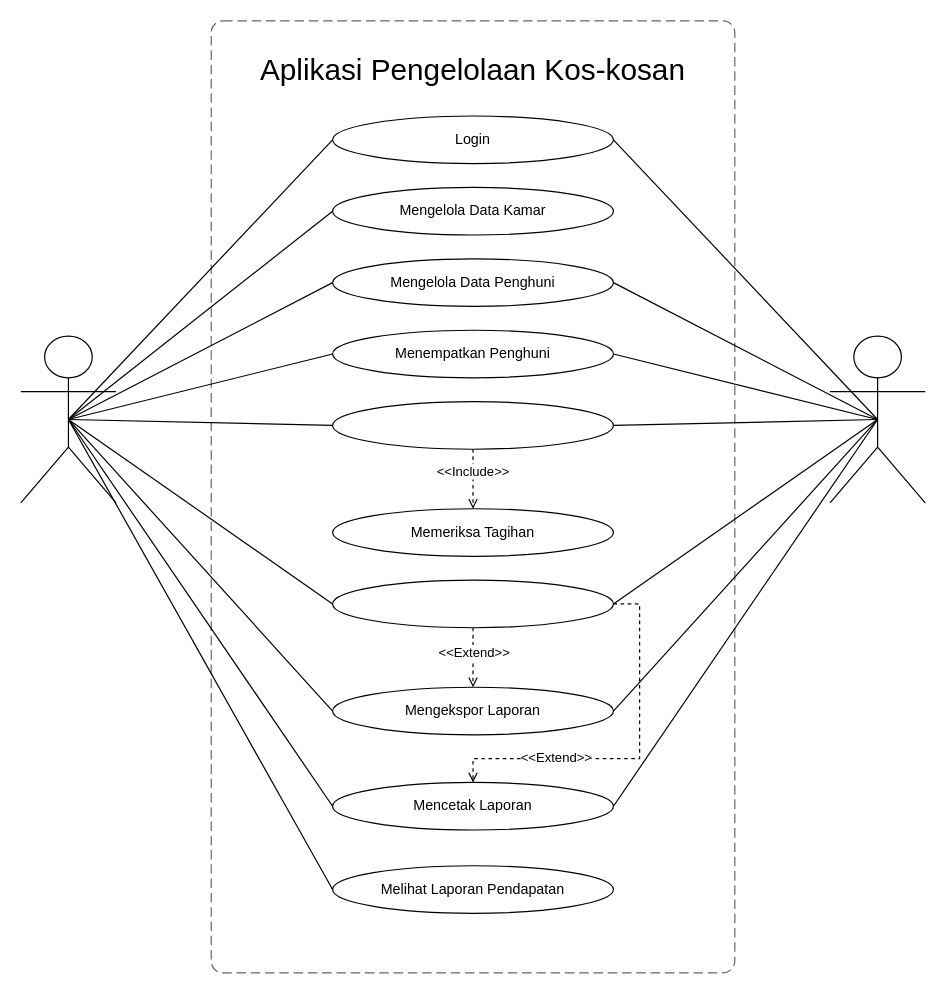
The diagram is 946 pixels wide and 994 high, and some of its shapes have lost their labels. Each missing label, with the centre of its shape:
Melihat Laporan Pembayaran: point (472, 603)
Mencatat Pembayaran Sewa: point (472, 424)
Pemilik Kos: point (68, 419)
Petugas: point (877, 419)
